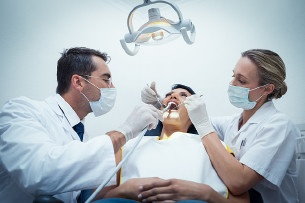Mask: (79, 69, 123, 113)
